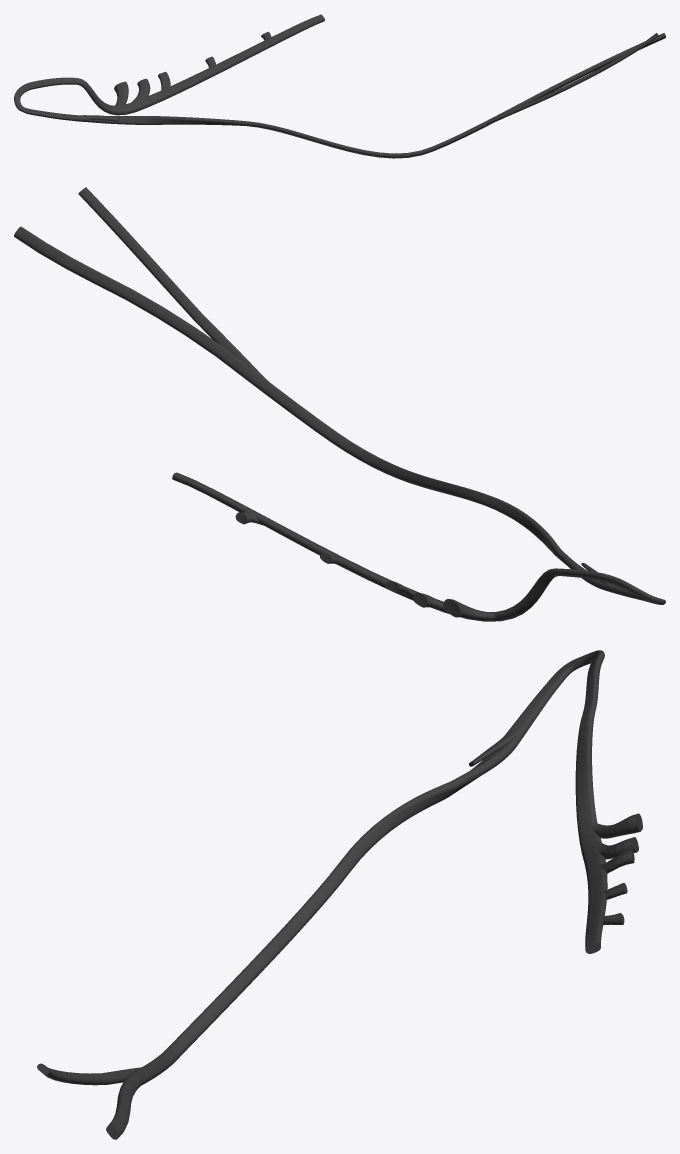
The model's file is N_11_accessory.glb.
The picture shows the model from 3 angles, top to bottom: view 1: azimuth 30°, elevation 25°; view 2: azimuth 150°, elevation 25°; view 3: azimuth 270°, elevation 25°; orthographic projection. The views are drawn at different scales.
Parts seen in each view (by area): view 1: N_11_accessory; view 2: N_11_accessory; view 3: N_11_accessory.
Boxes of the visible parts, left/top/right/bottom form: N_11_accessory: left=14, top=14, right=665, bottom=158; N_11_accessory: left=14, top=187, right=665, bottom=621; N_11_accessory: left=37, top=650, right=642, bottom=1139.
Size of the model in its own units: 0.0298 by 0.00526 by 0.0146.
Materials: 1 (1 with a texture image).
